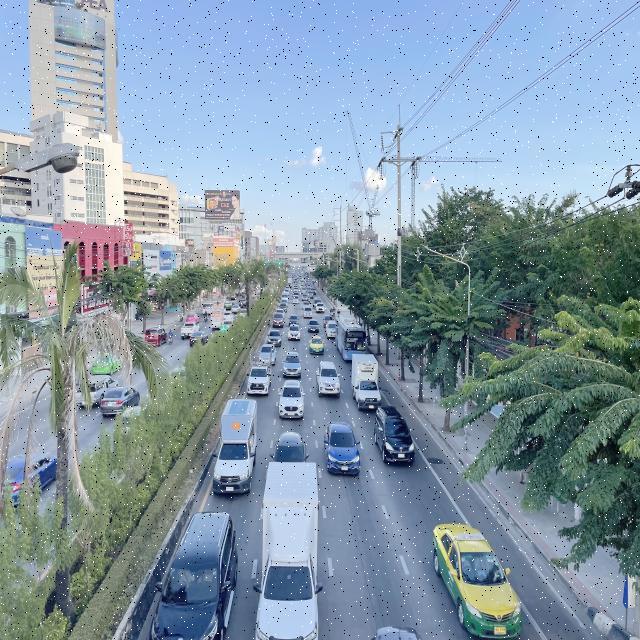bus: (335, 313, 368, 363)
car: (146, 506, 239, 640), (431, 521, 524, 640), (373, 405, 416, 468), (324, 422, 360, 476), (270, 430, 309, 466), (278, 379, 306, 422), (316, 361, 341, 396), (282, 352, 303, 378), (258, 344, 276, 366), (267, 329, 282, 348)
truck: (256, 460, 321, 640), (213, 398, 258, 498), (352, 353, 382, 412), (247, 347, 272, 396)
